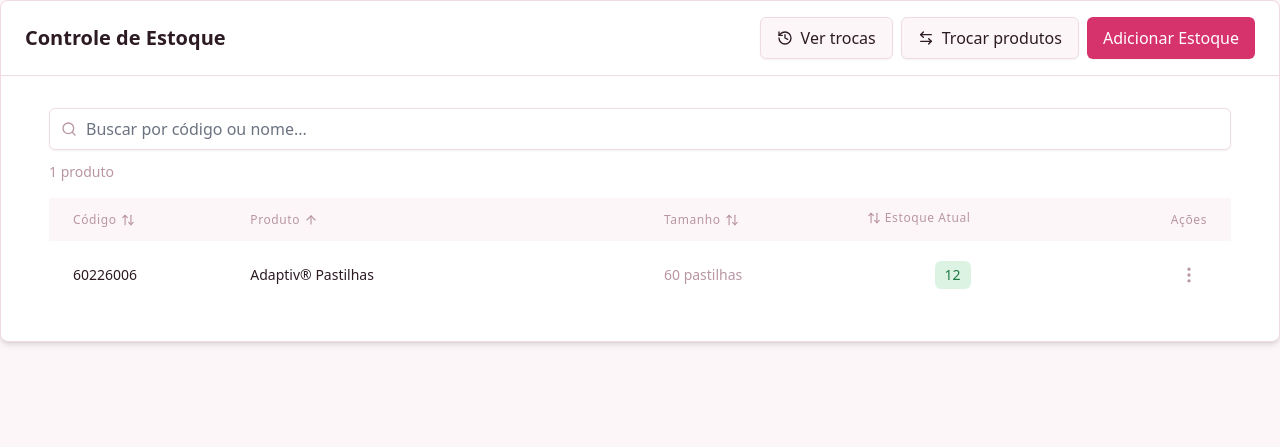
StockPage › ActionMenu (kebab) › should expose "Nova Entrada", "Nova Saída" and "Ver Histórico" items
Click the button with test id "stock-actions-11111111-1111-1111-1111-111111111111-trigger".
click(1189, 275)  # box x1=1171 y1=257 x2=1207 y2=293
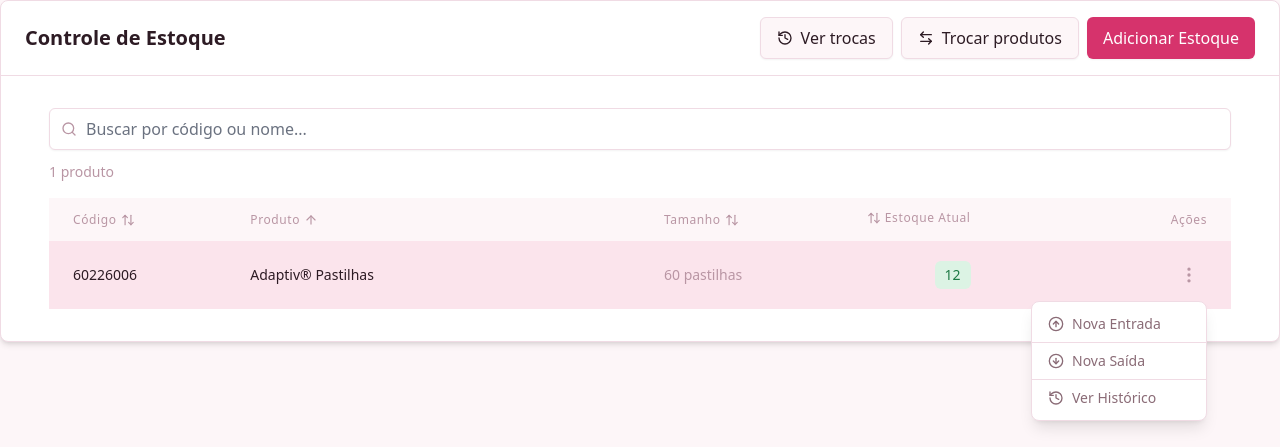
Expected: the menu with test id "stock-actions-11111111-1111-1111-1111-111111111111-menu" is shown, x1=1031 y1=301 x2=1207 y2=421
Expected: the menu item with test id "stock-actions-11111111-1111-1111-1111-111111111111-item-Nova-Entrada" reads "Nova Entrada", x1=1032 y1=306 x2=1206 y2=342
Expected: the menu item with test id "stock-actions-11111111-1111-1111-1111-111111111111-item-Nova-Saida" reads "Nova Saída", x1=1032 y1=342 x2=1206 y2=379
